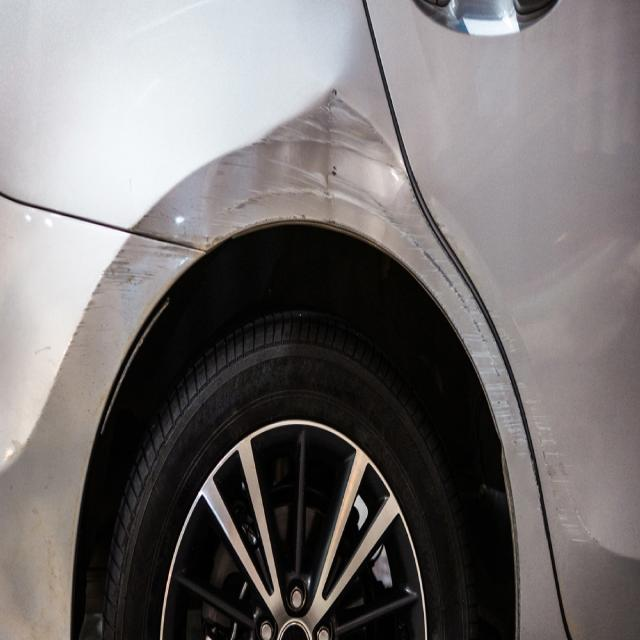dent: (204, 91, 407, 240)
scratch: (382, 189, 530, 451), (63, 240, 191, 357), (528, 395, 599, 549)
